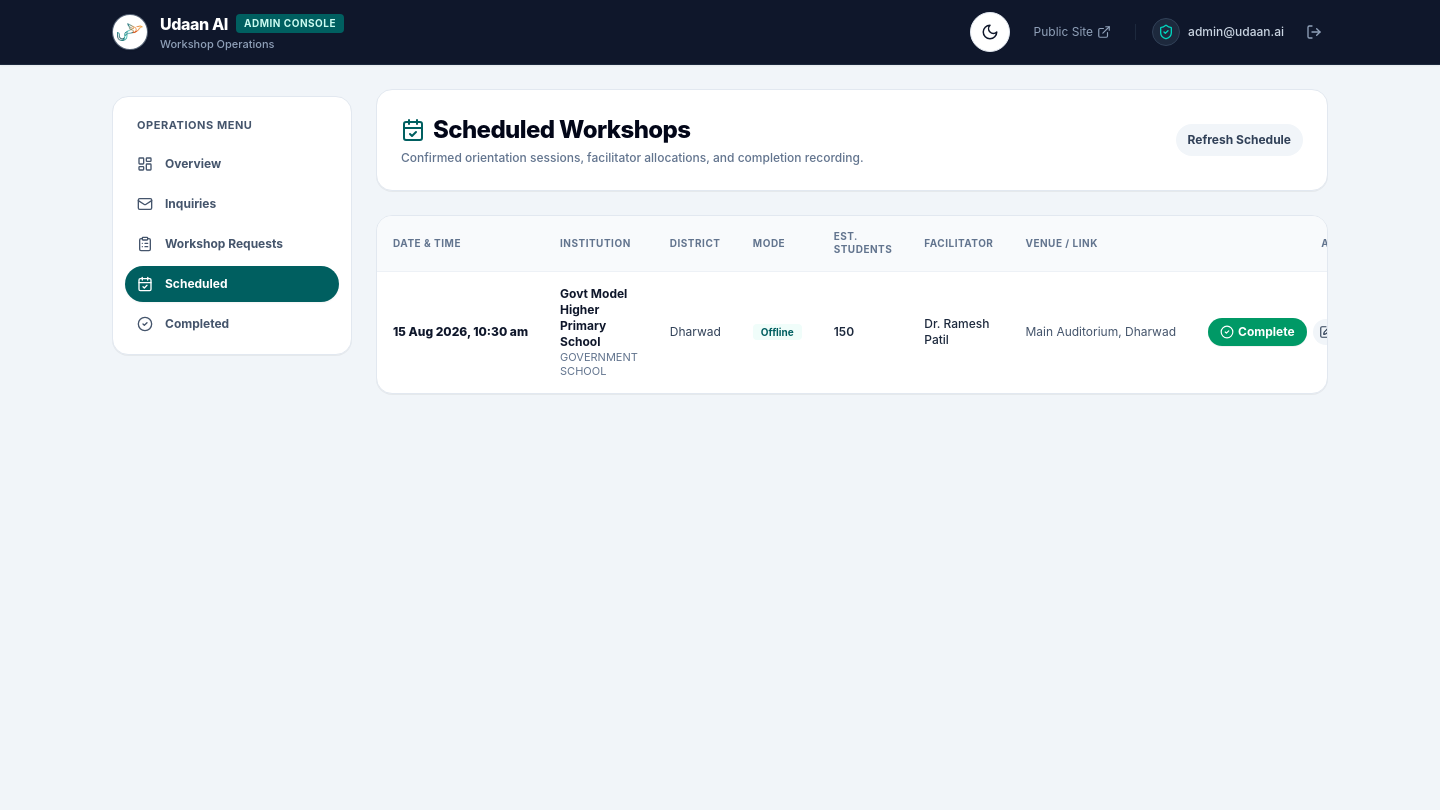
Test: AdminScheduledPage Cancellation Recovery › AdminScheduledPage Workshop Completion › shows normalized error in dialog, preserves explicit 0 inputs on failure, and updates list on retry
The width and height of the screenshot is (1440, 810).
Expected: the text "Govt Model Higher Primary School" is shown, [560,286,638,350]
// Open complete dialog
Click the button "Complete" at (1257, 332), box [1208,318,1307,346]
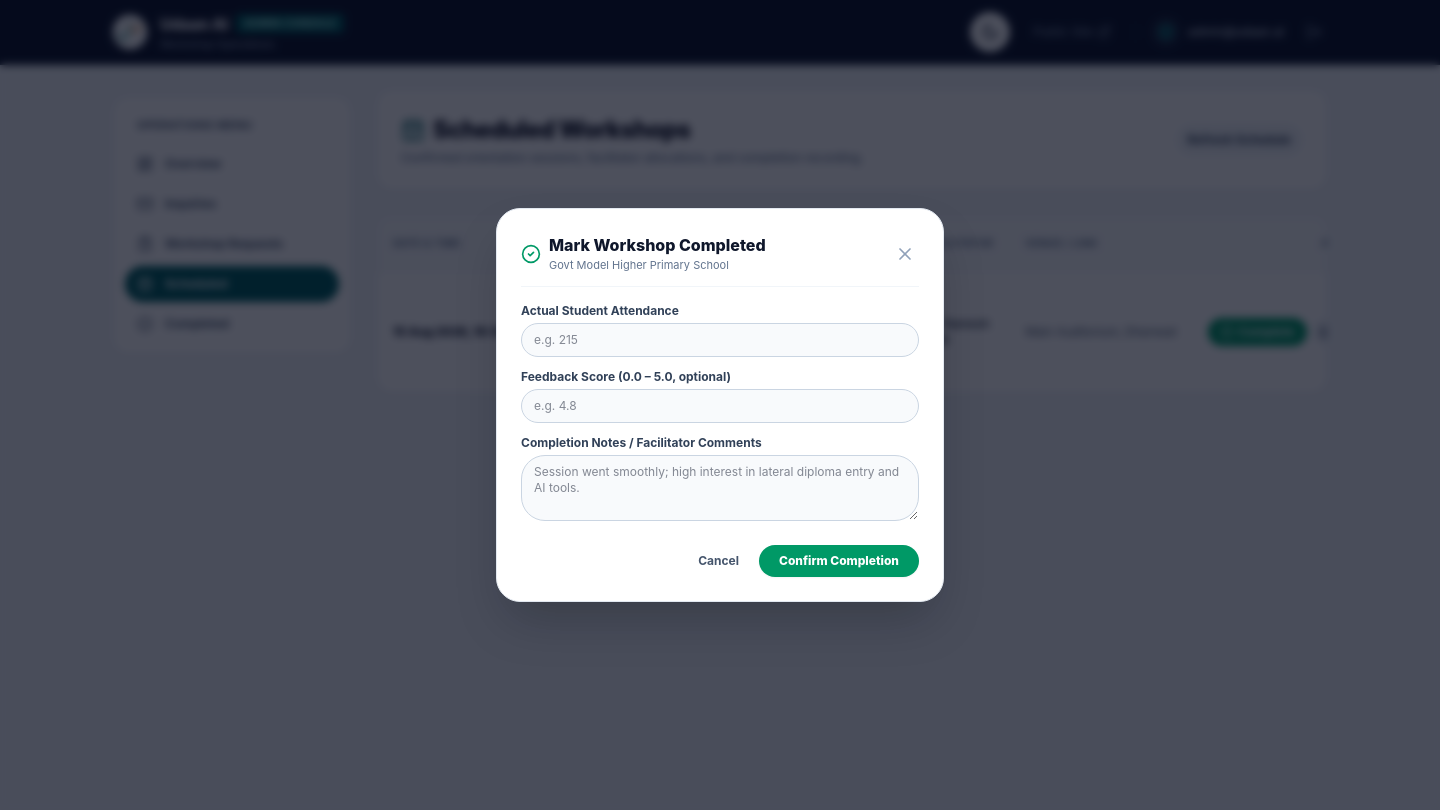
Expected: the heading "Mark Workshop Completed" is shown, [549,233,766,257]
// Enter explicit 0 for attendance and feedback
Type "0" into the number field labelled "Actual Student Attendance" at (720, 340), box [521,323,919,357]
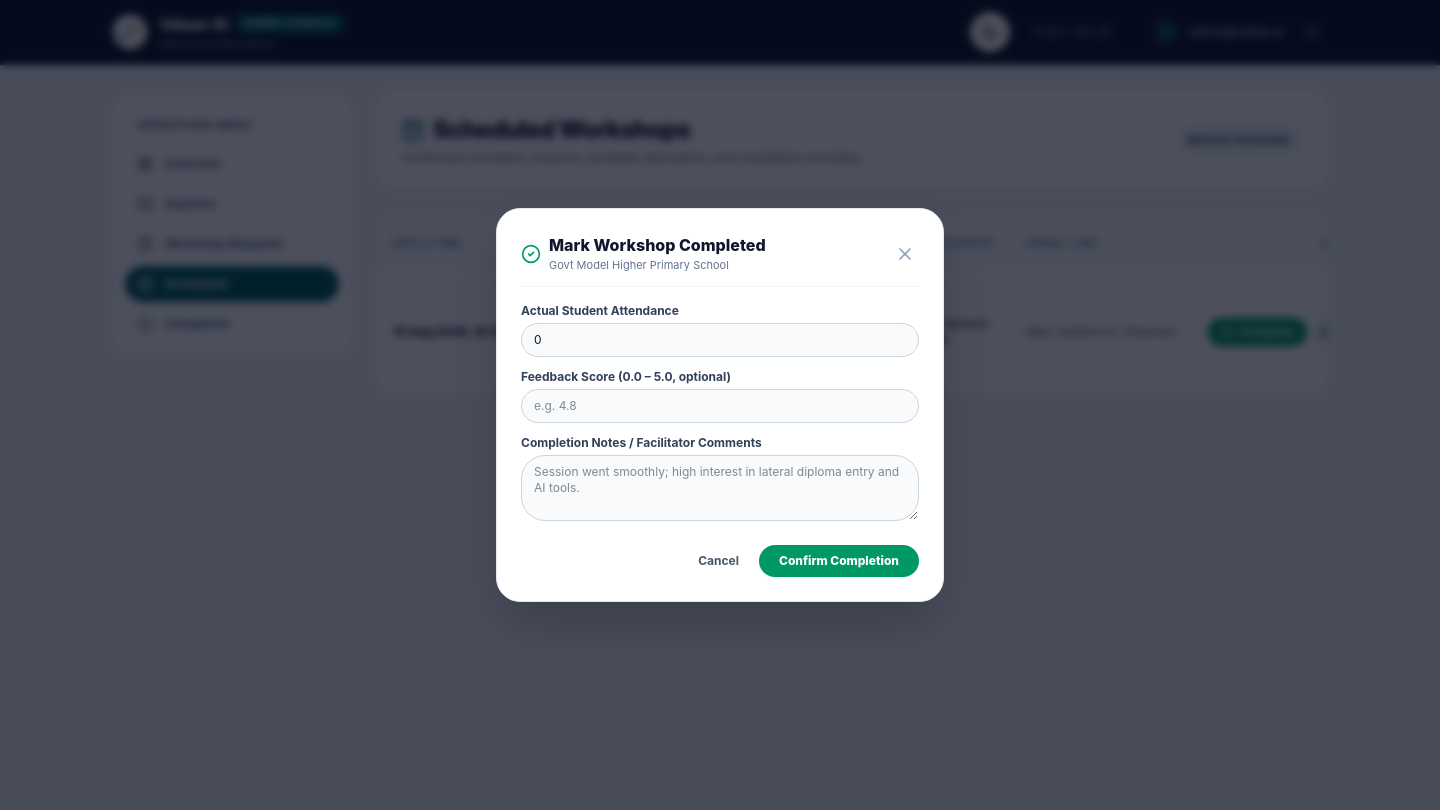
Type "0" into the number field labelled "Feedback Score (0.0 – 5.0, optional)" at (720, 406), box [521,389,919,423]
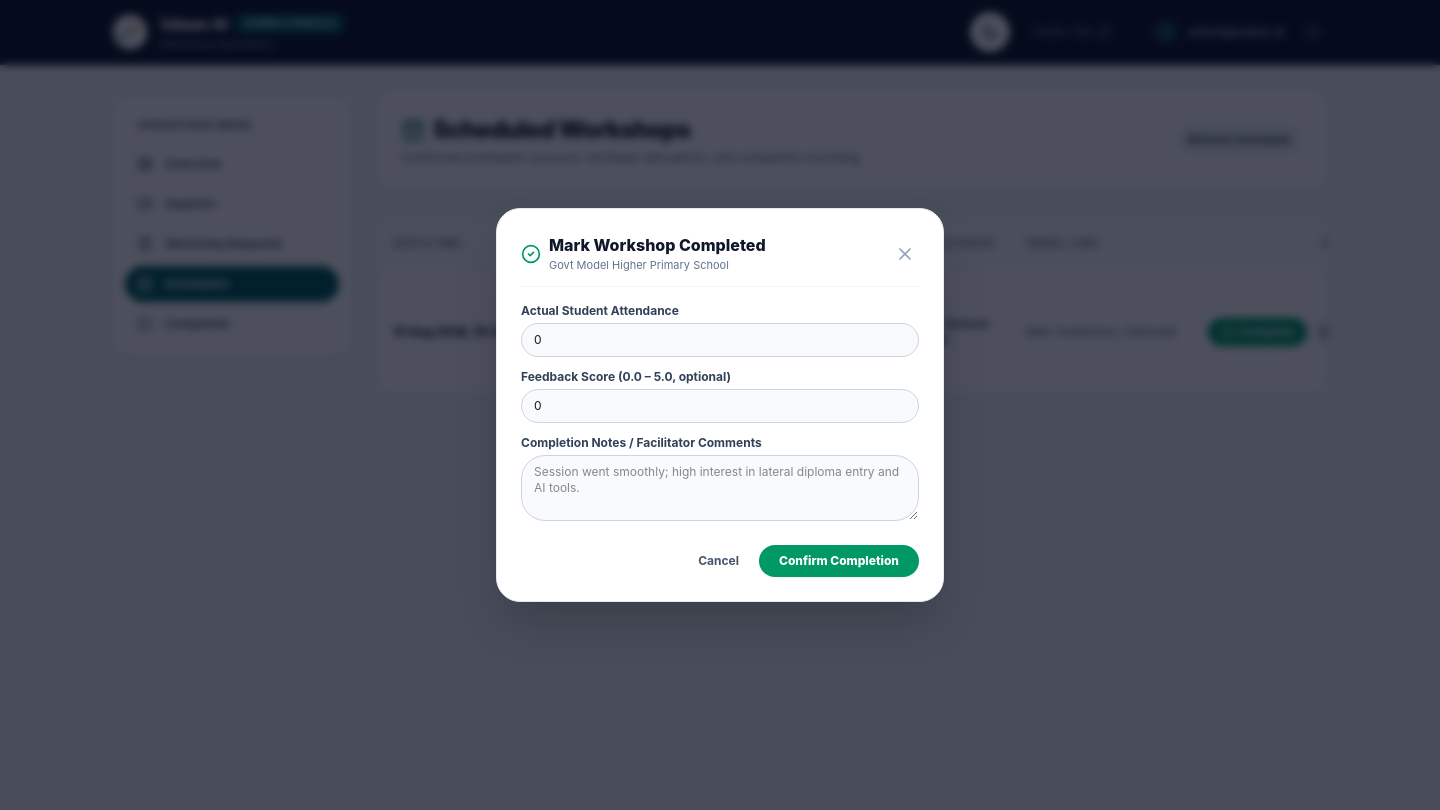
Replace the text in the text box labelled "Completion Notes / Facilitator Comments" with "Zero attendance recorded" at (720, 488), box [521,455,919,521]
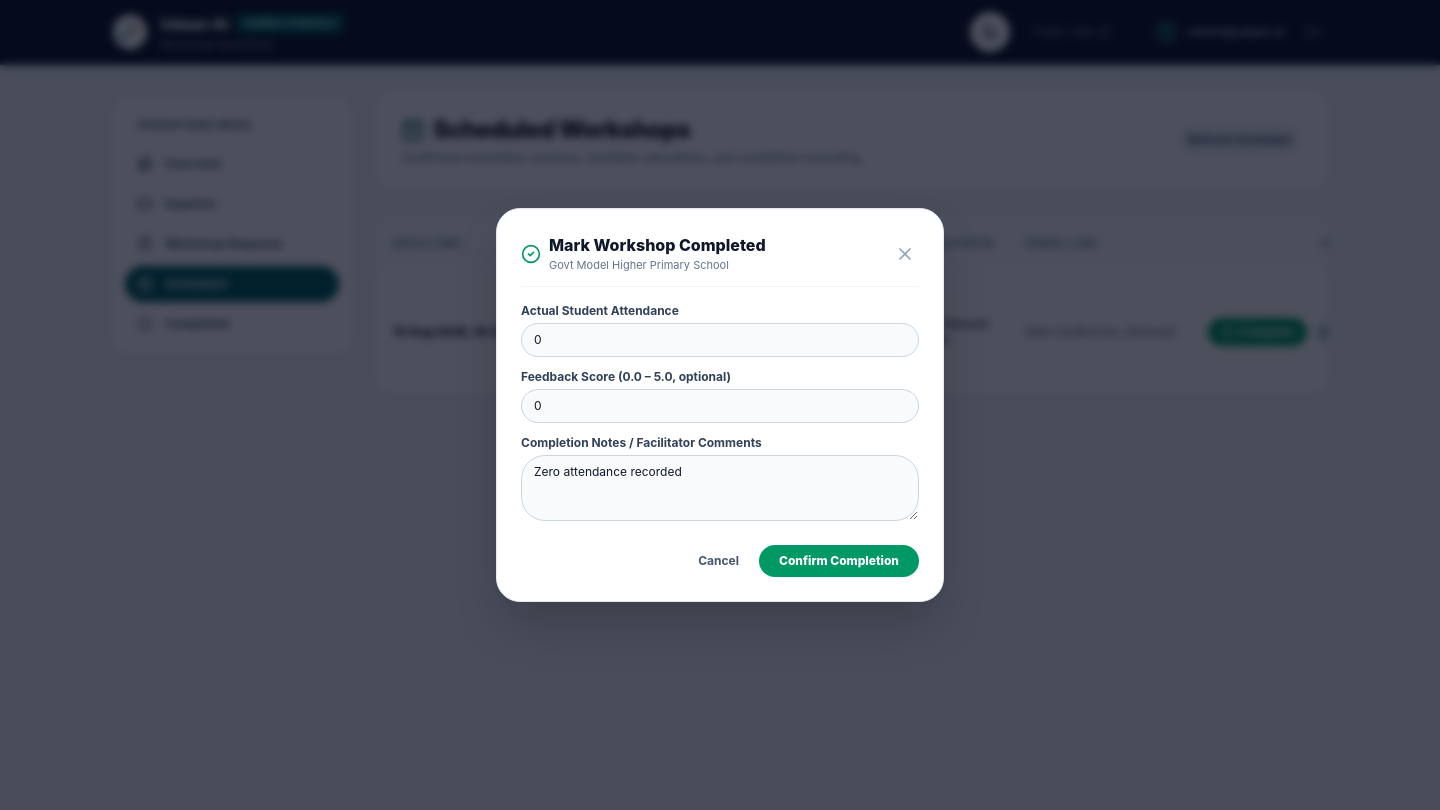
Click the button "Confirm Completion" at (839, 561), box [759,545,919,577]
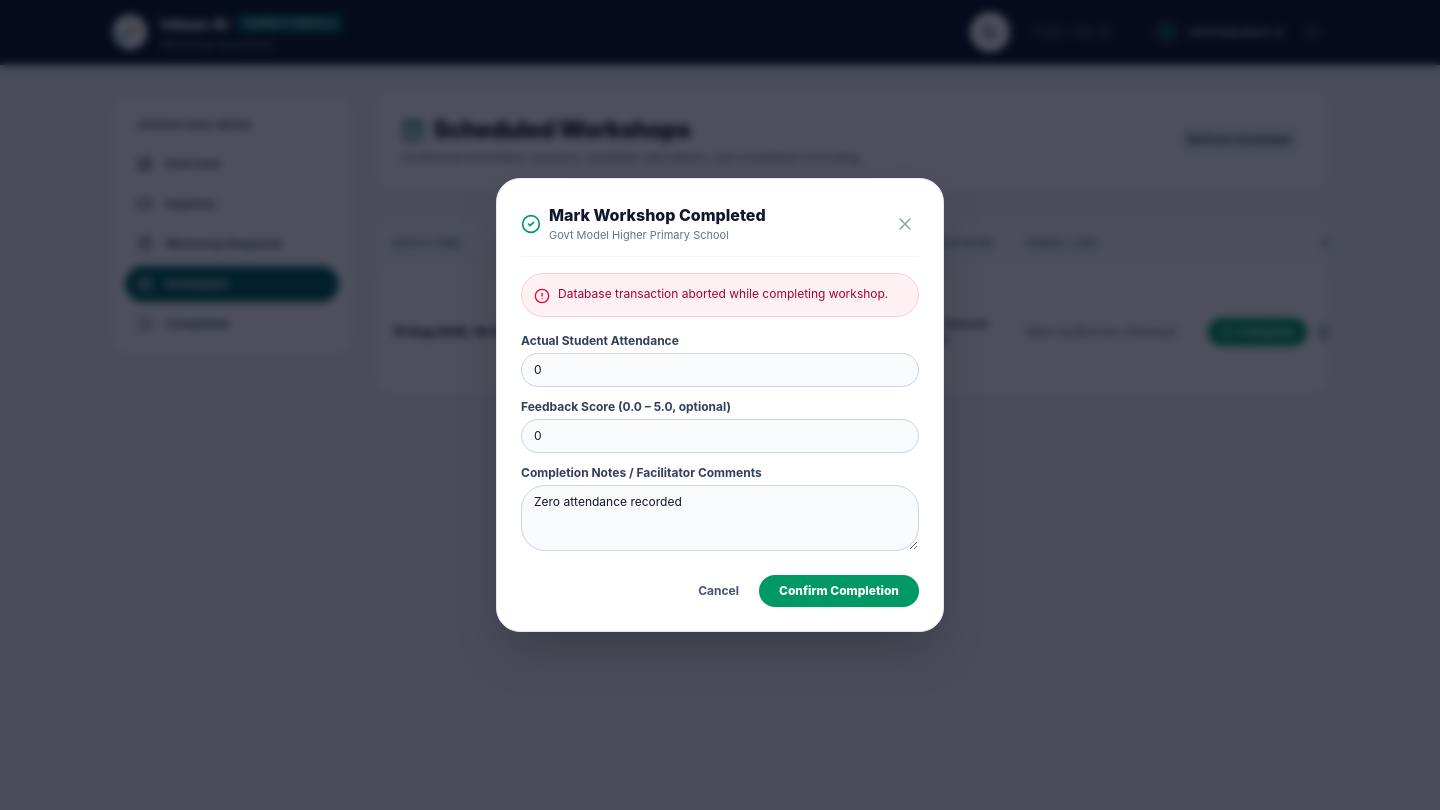
Expected: the heading "Mark Workshop Completed" is shown, [549,203,766,227]
Expected: the message reads "Database transaction aborted while completing workshop.", [558,286,888,301]
Click the button "Confirm Completion" at (839, 591), box [759,575,919,607]
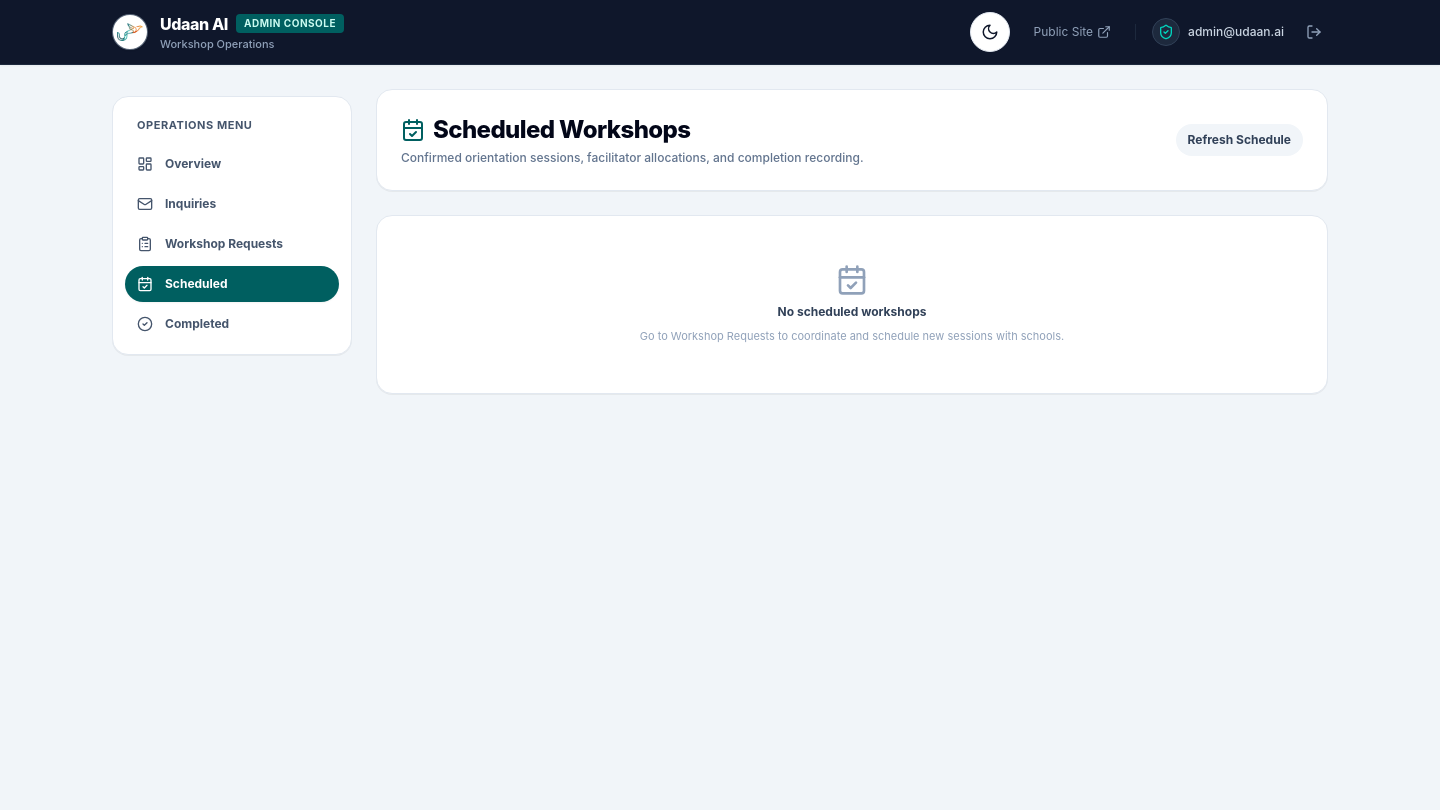
Expected: the heading "Mark Workshop Completed" is gone
Expected: the message "Database transaction aborted while completing workshop." is gone
Expected: the text "No scheduled workshops" is shown, [778,304,926,319]
